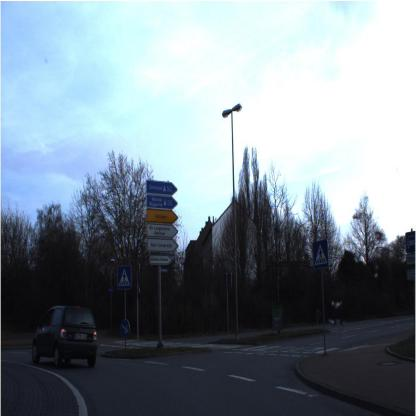mandatory: (312, 237, 329, 268), (116, 262, 132, 292), (118, 317, 132, 340)
